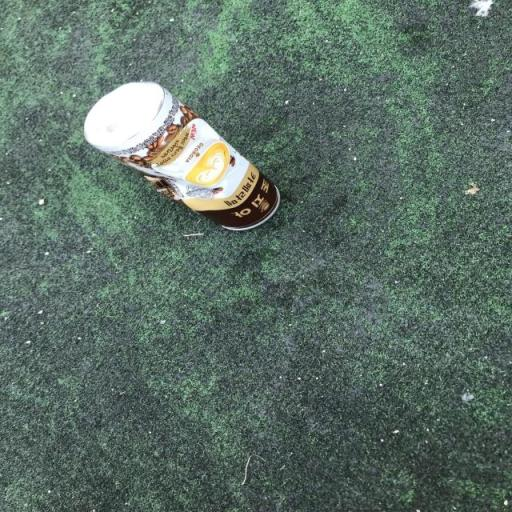metal: (29, 57, 307, 253)
